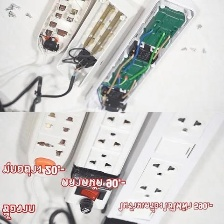three_eye_plug: (78, 0, 201, 122), (102, 111, 224, 224), (57, 111, 161, 217), (52, 0, 157, 87), (23, 111, 96, 181), (31, 0, 99, 62)
